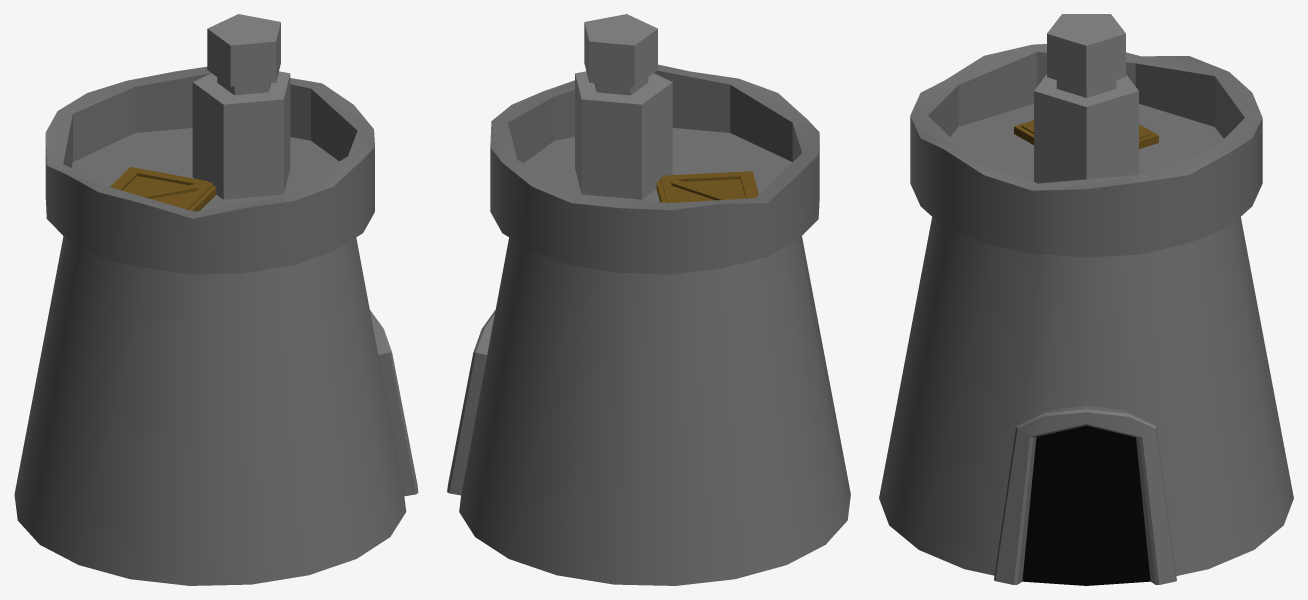
The model's file is stoneTower_Placeholder001.fbx.
The picture shows the model from 3 angles, left to right: view 1: azimuth 30°, elevation 25°; view 2: azimuth 150°, elevation 25°; view 3: azimuth 270°, elevation 25°; orthographic projection. The views are drawn at different scales.
Parts seen in each view (by area): view 1: tower_002_Base, archer_002, tower_002_Trapdoor; view 2: tower_002_Base, archer_002, tower_002_Trapdoor; view 3: tower_002_Base, archer_002, tower_002_Trapdoor.
Part boxes in pixels (box(x1,y1,x2,y2)): tower_002_Base: box(14, 66, 418, 585); archer_002: box(192, 14, 290, 199); tower_002_Trapdoor: box(110, 167, 216, 211); tower_002_Base: box(447, 64, 850, 585); archer_002: box(575, 14, 672, 199); tower_002_Trapdoor: box(656, 171, 758, 202); tower_002_Base: box(879, 44, 1293, 585); archer_002: box(1034, 14, 1138, 183); tower_002_Trapdoor: box(1014, 120, 1158, 148).
Size of the model in its own units: 7.55 by 9.76 by 7.51.
